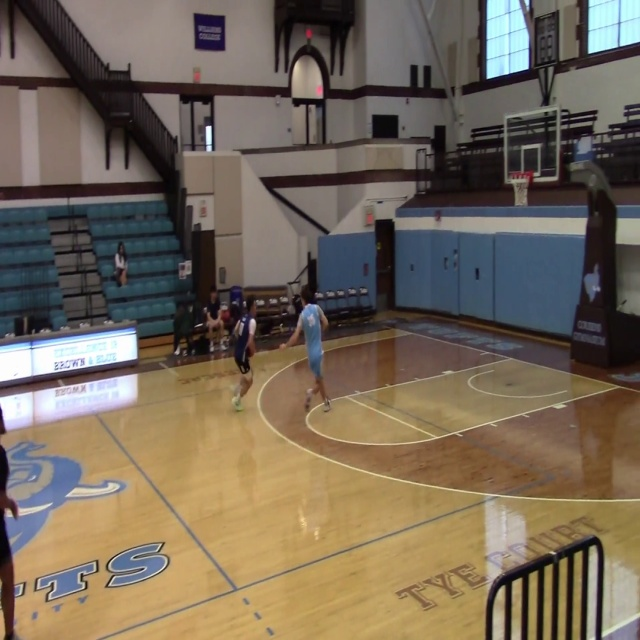Basketball: (221, 310, 231, 321), (305, 28, 313, 38)
